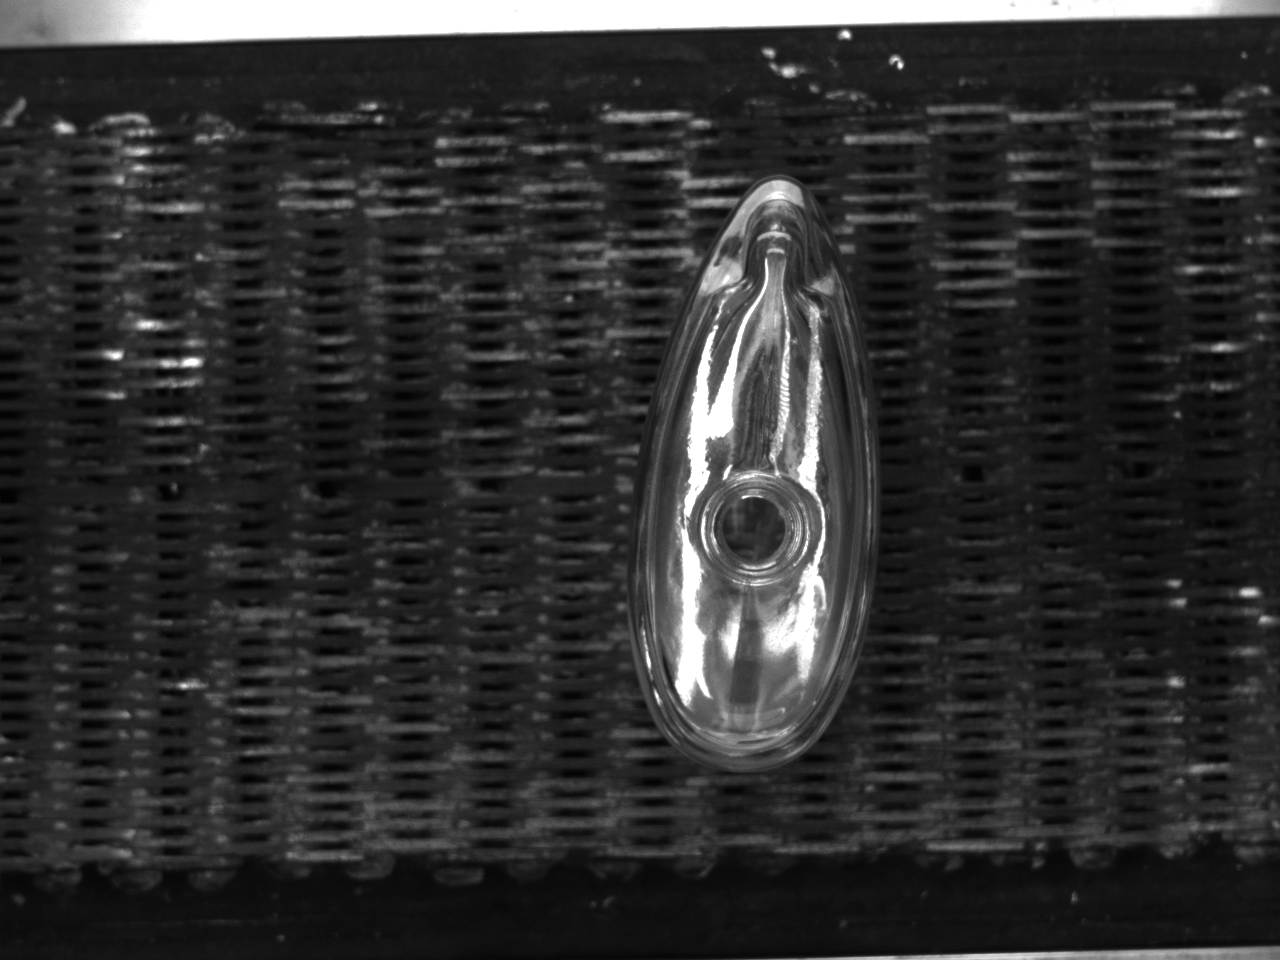bottleneck: (700, 473, 813, 583)
